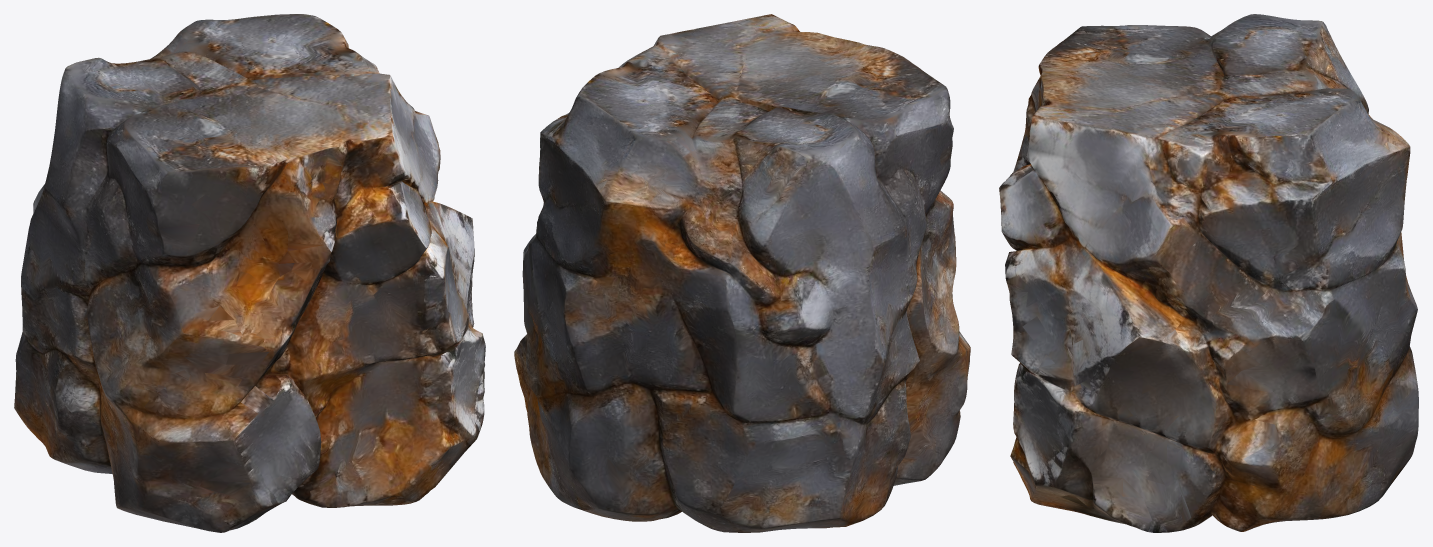
File: ore_small.glb
The picture shows the model from 3 angles, left to right: view 1: azimuth 30°, elevation 25°; view 2: azimuth 150°, elevation 25°; view 3: azimuth 270°, elevation 25°; orthographic projection.
Parts seen in each view (by area): view 1: knife_mesh; view 2: knife_mesh; view 3: knife_mesh.
Boxes of the visible parts, <box> form: knife_mesh: <box>14,14,485,532</box>; knife_mesh: <box>514,14,970,532</box>; knife_mesh: <box>999,14,1418,532</box>.
Size of the model in its own units: 0.9012 by 0.8785 by 0.8653.
Materials: 1 (1 with a texture image).
